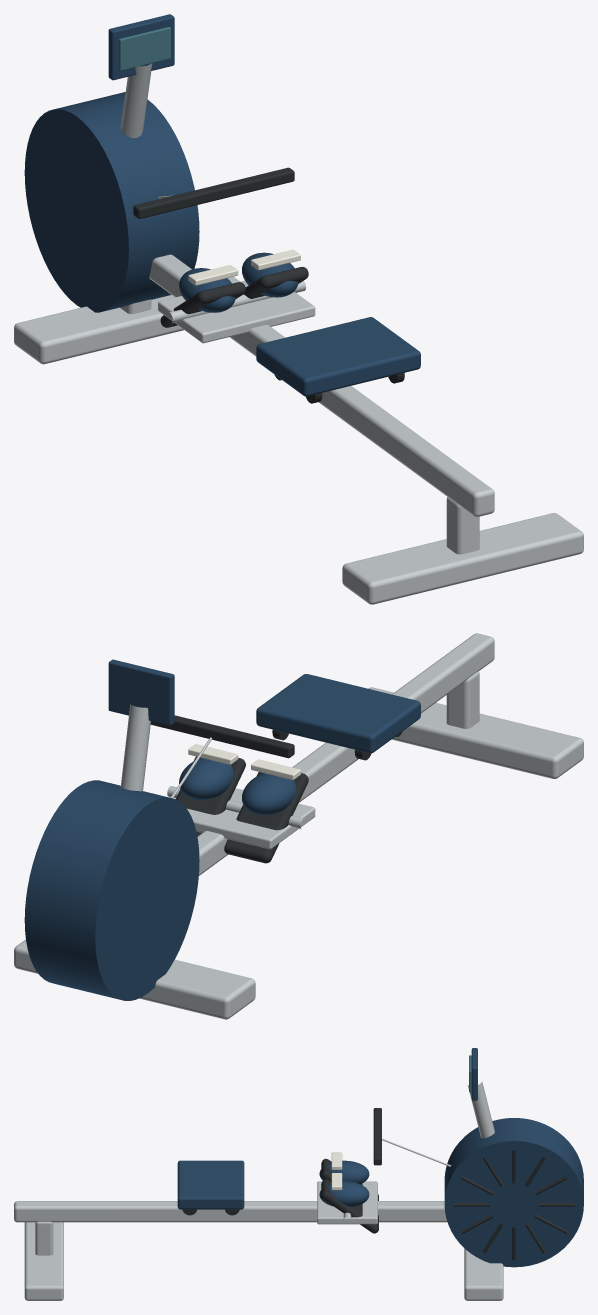
Rendered from rowing-boathouse-and-regatta-course-training-rowing-ma-c54f4aaa__32154.glb.
3 renders of one model, top to bottom at view 1: azimuth 30°, elevation 25°; view 2: azimuth 150°, elevation 25°; view 3: azimuth 270°, elevation 25°, orthographic. The views are drawn at different scales.
Visible parts, largest first — view 1: training-rowing-machine; view 2: training-rowing-machine; view 3: training-rowing-machine.
Boxes of the visible parts, <box> form: training-rowing-machine: <box>14,14,583,604</box>; training-rowing-machine: <box>14,633,583,1019</box>; training-rowing-machine: <box>14,1048,583,1300</box>.
Bounding box in the file's own units: 0.55 × 0.76 × 1.88.
